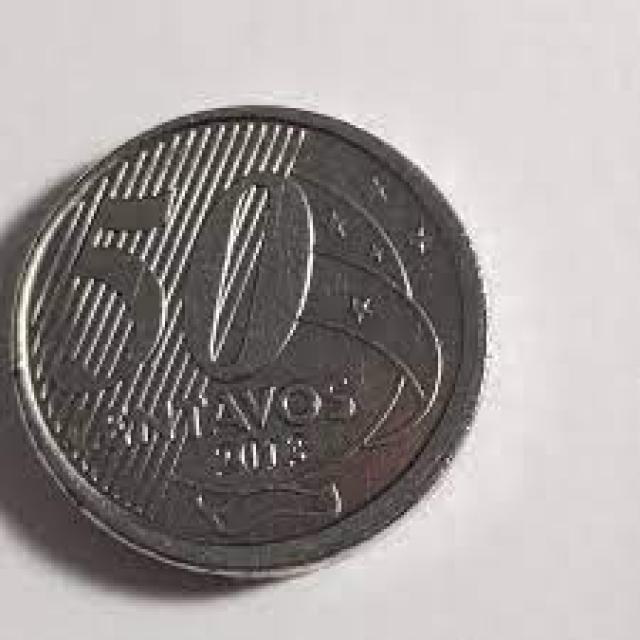50 cent: (9, 100, 494, 586)
